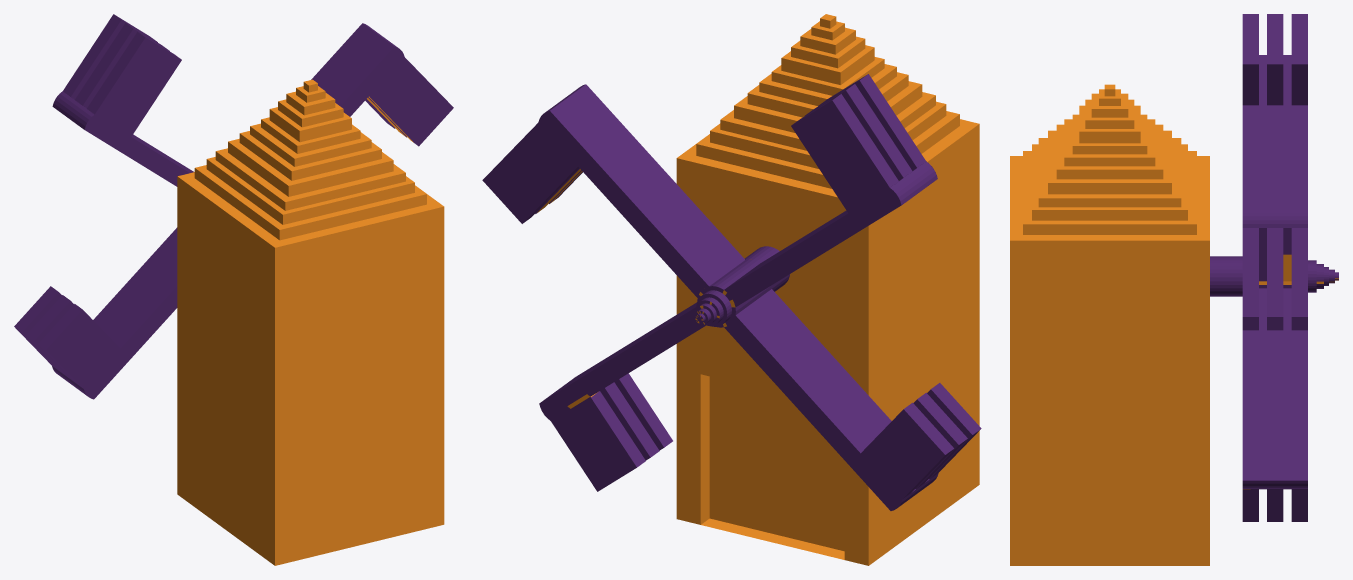
Rendered from Muzeum_1.obj.
3 renders of one model, left to right at view 1: azimuth 30°, elevation 25°; view 2: azimuth 150°, elevation 25°; view 3: azimuth 270°, elevation 25°, orthographic. The views are drawn at different scales.
Parts seen in each view (by area): view 1: Cube.001; view 2: Cube.001; view 3: Cube.001.
Boxes of the visible parts, x1,y1,x2,y2 form: Cube.001: (14,14,453,565); Cube.001: (482,14,981,565); Cube.001: (1010,14,1338,565).
Size of the model in its own units: 74.99 by 78.91 by 51.18.
